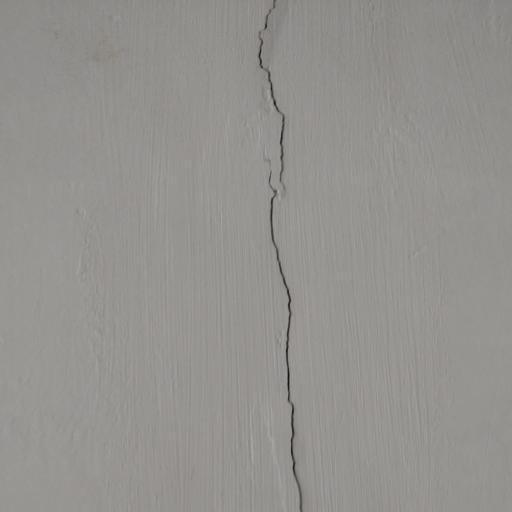major_crack: (233, 0, 341, 512)
